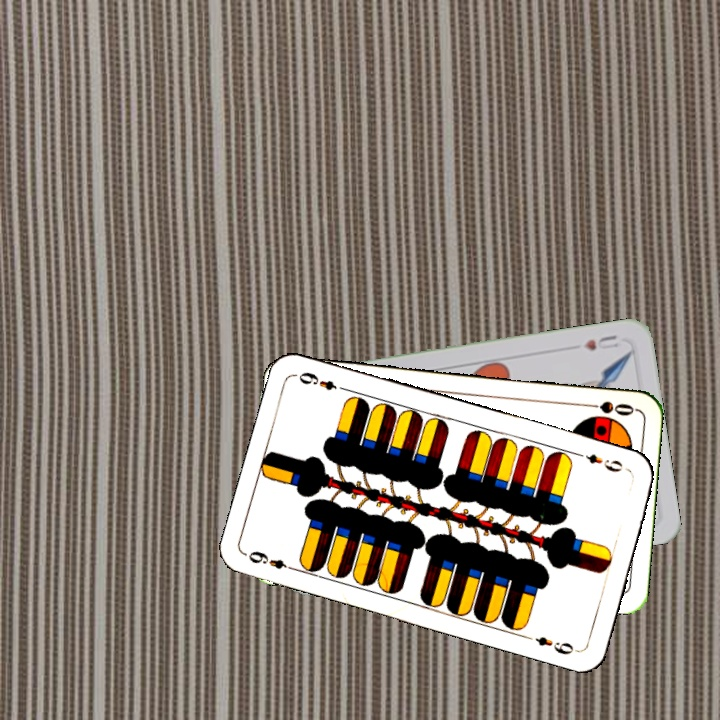E9: (244, 547, 301, 574), (574, 449, 625, 475)
HU: (580, 330, 625, 353)
SO: (578, 397, 637, 419)
